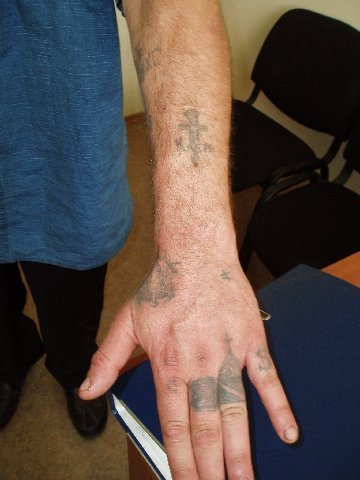tatu9_krest: (173, 105, 209, 162)
